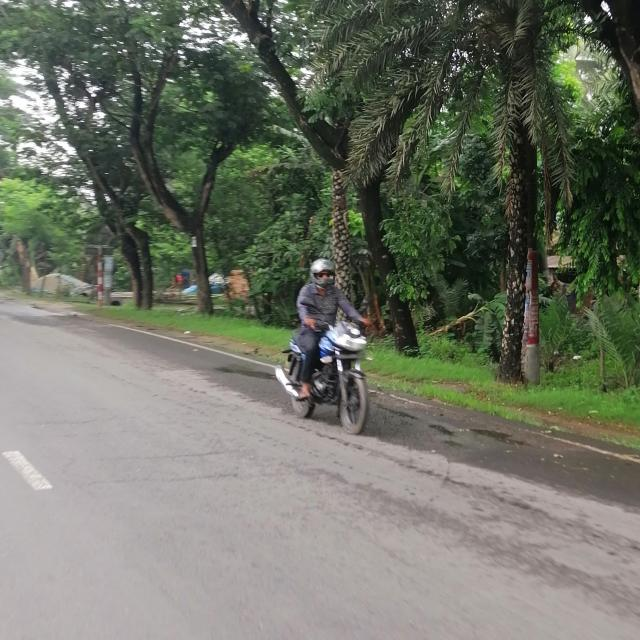Motorbike: (270, 318, 394, 435)
